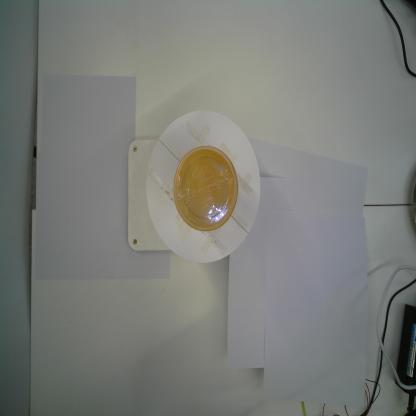Instant Drink: (172, 145, 238, 232)
